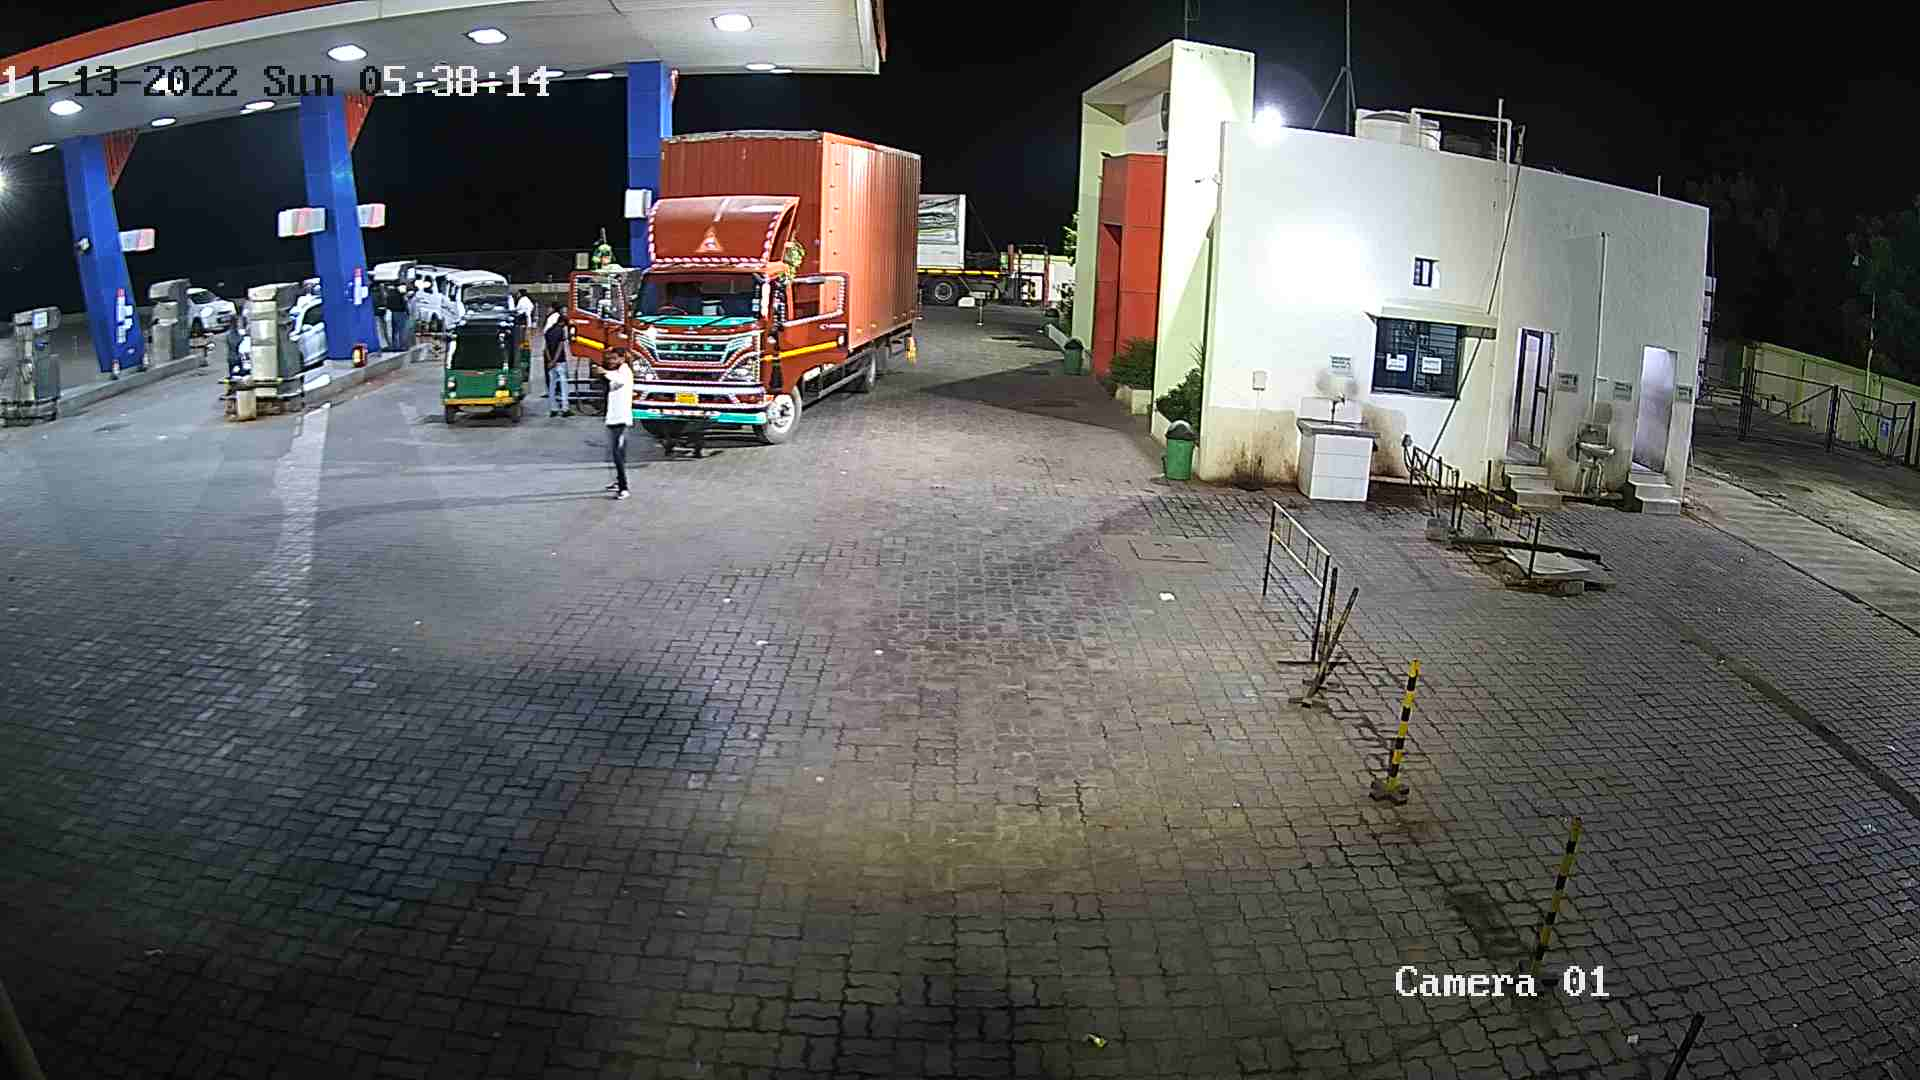Auto: (434, 299, 541, 434)
Car: (232, 285, 332, 373), (426, 262, 526, 339), (392, 255, 450, 335), (177, 269, 239, 342)
HMV: (563, 123, 930, 459), (910, 182, 1044, 309)
